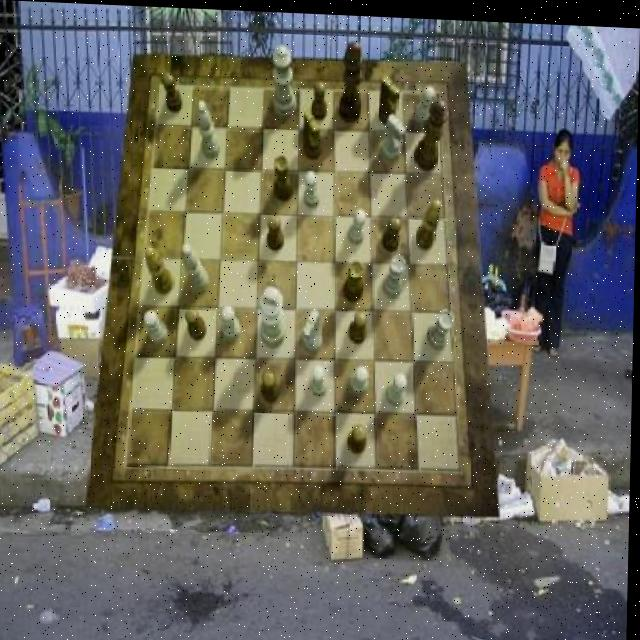bishop: (146, 244, 176, 294), (416, 194, 442, 248)
black-bishop: (340, 37, 365, 120)
black-king: (378, 73, 400, 123), (304, 106, 324, 158)
black-knight: (164, 70, 185, 111), (186, 305, 210, 340), (383, 212, 404, 247), (312, 78, 329, 119), (349, 420, 370, 452), (349, 308, 368, 343), (268, 213, 286, 249), (264, 368, 282, 401)
black-pawn: (414, 93, 449, 168)
black-queen: (274, 153, 295, 199), (346, 257, 367, 300)
black-rook: (197, 98, 222, 157), (183, 242, 211, 292)
white-bishop: (260, 283, 288, 345)
white-king: (382, 111, 406, 159), (303, 306, 325, 351)
white-knight: (146, 309, 171, 344), (415, 82, 436, 122), (389, 369, 409, 404), (222, 303, 242, 338), (350, 205, 368, 243), (305, 168, 321, 206), (312, 362, 330, 395), (352, 363, 370, 391)
white-pawn: (272, 42, 298, 115)
white-queen: (428, 304, 455, 347), (385, 252, 408, 295)
